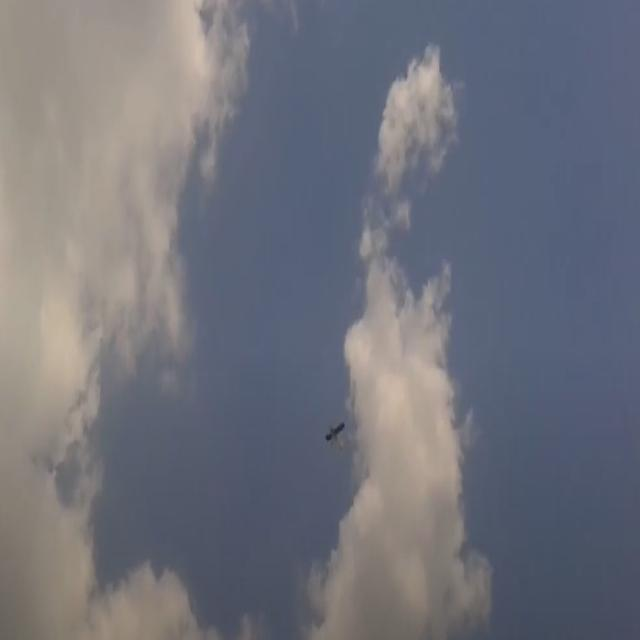iha: (324, 421, 345, 446)
